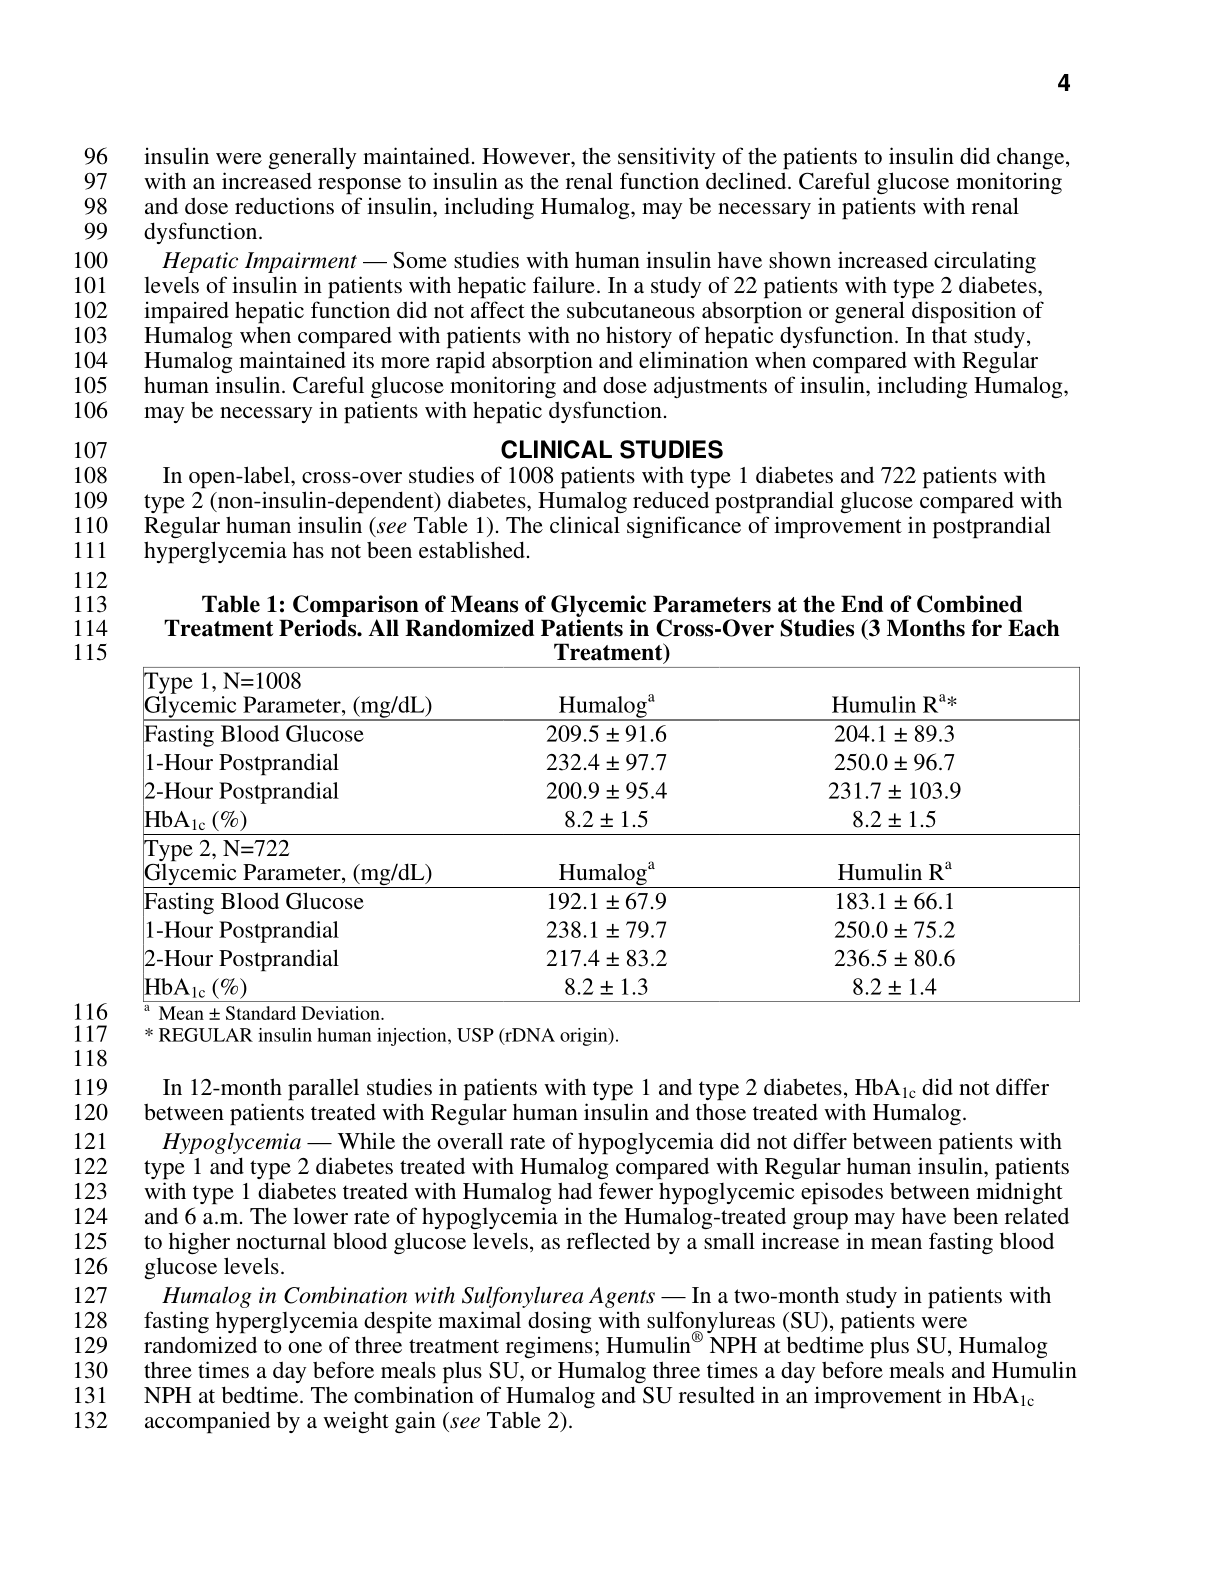partial_lined: (140, 663, 1086, 1005)
